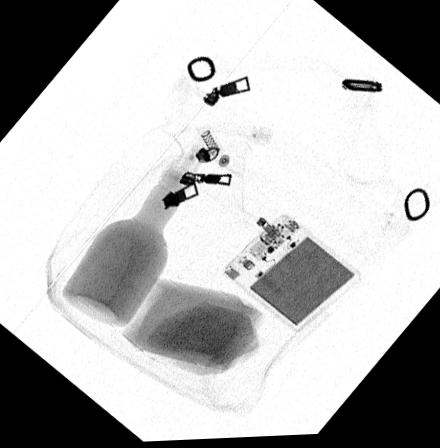Powerbank: (221, 214, 365, 337)
